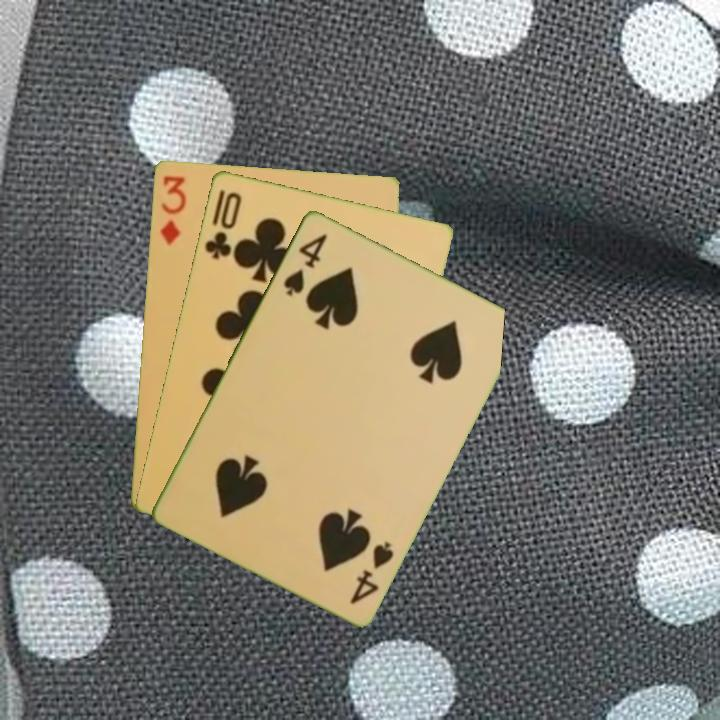10c: (201, 188, 245, 262)
3d: (156, 172, 189, 248)
4s: (346, 537, 397, 607), (279, 229, 330, 298)
